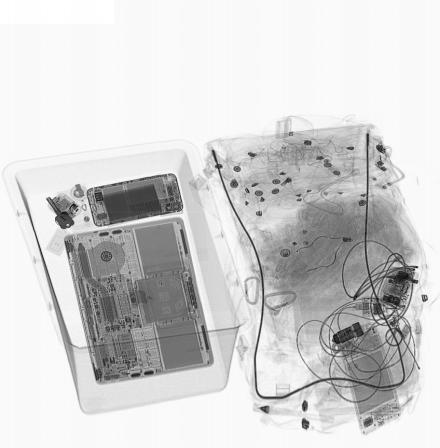Powerbank: (99, 179, 176, 223)
